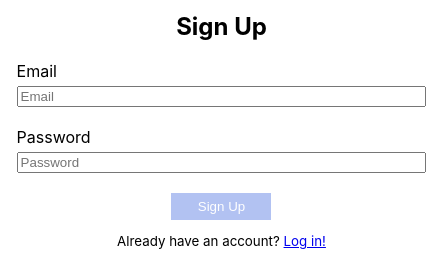
Test: signup allowed
The width and height of the screenshot is (443, 266).
Type "mock@email.com" into the field labelled "Email" at [222, 96], box [17, 86, 426, 107]
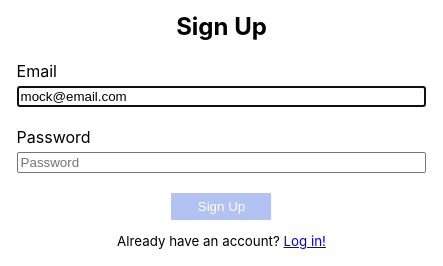
Type "password123" into the password field labelled "Password" at [222, 162], box [17, 152, 426, 173]
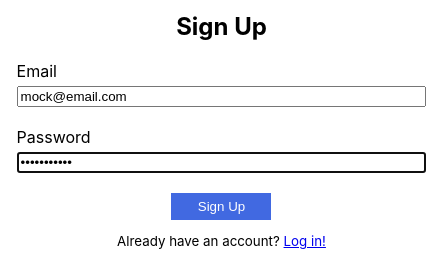
Expected: the button is enabled, [172, 193, 272, 220]
